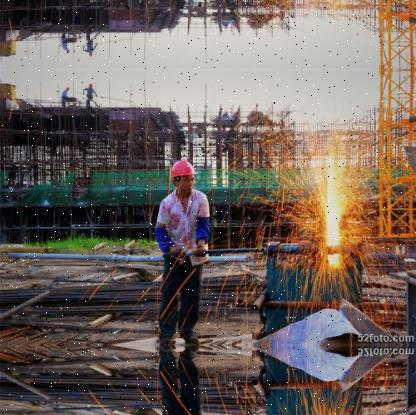helmet: (167, 156, 196, 195)
